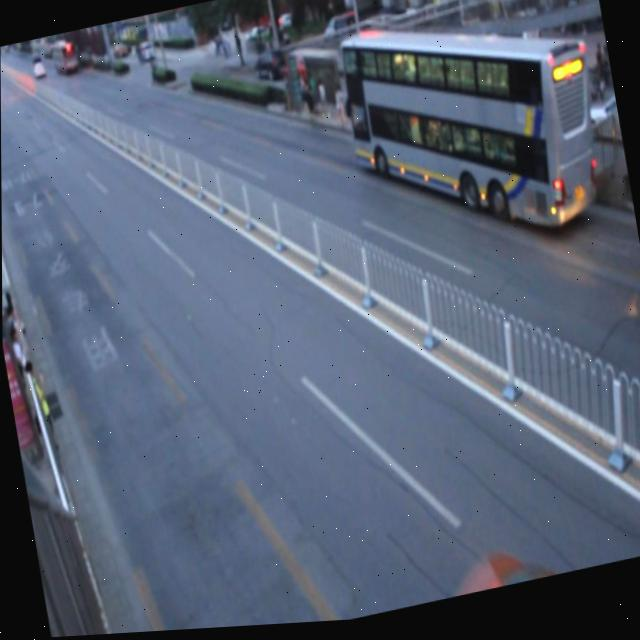car: (450, 542, 570, 602)
van: (334, 0, 607, 272)
